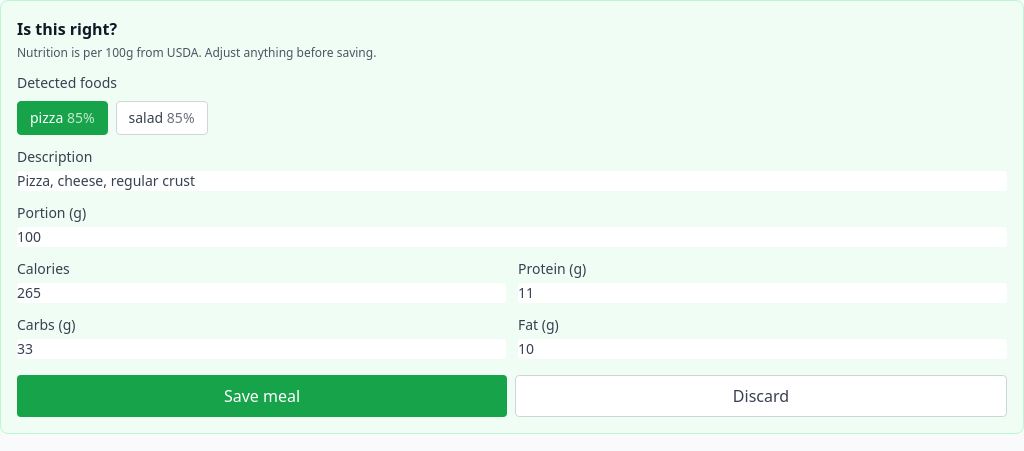
Test: MealReview › resets the portion when the user switches to a different detected food
Click the button "salad 85%" at {"x": 162, "y": 118}, box [116, 101, 208, 135]
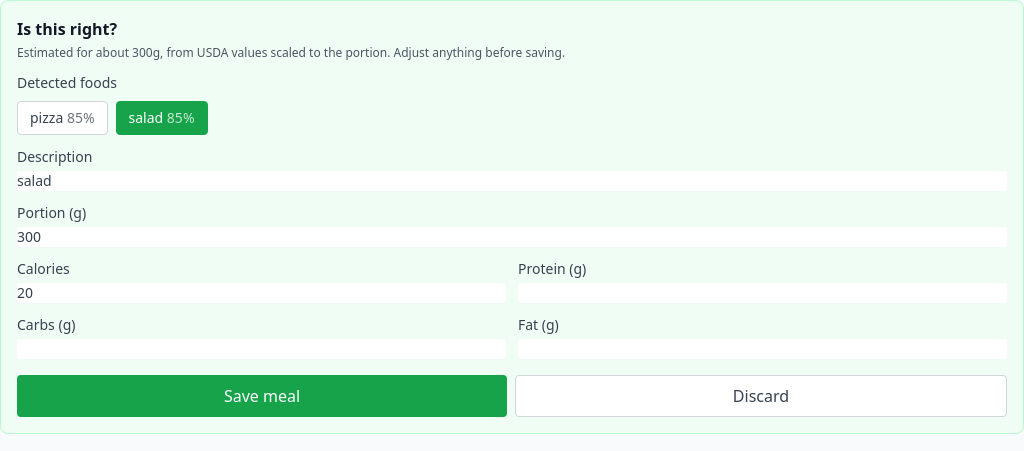
Expected: the number field labelled "Portion (g)" holds "300", [17, 227, 1007, 247]
